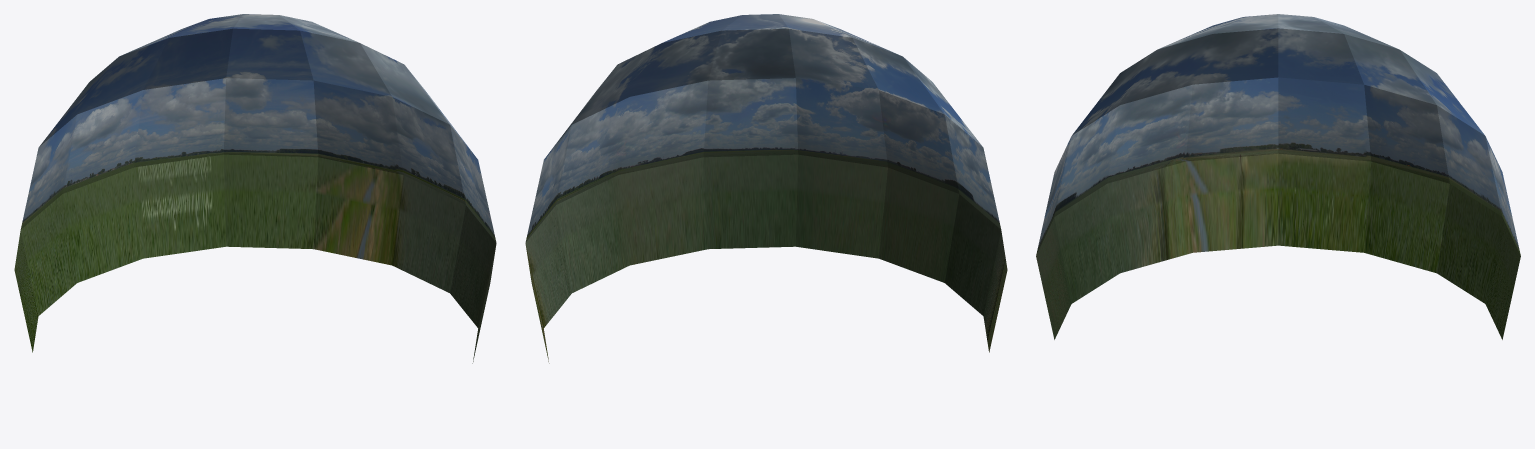
The model's file is sky.gltf.
3 views of the same model, side by side, from view 1: azimuth 30°, elevation 25°; view 2: azimuth 150°, elevation 25°; view 3: azimuth 270°, elevation 25° (orthographic).
Size of the model in its own units: 1500 by 1037 by 1500.
Materials: 1 (1 with a texture image).
